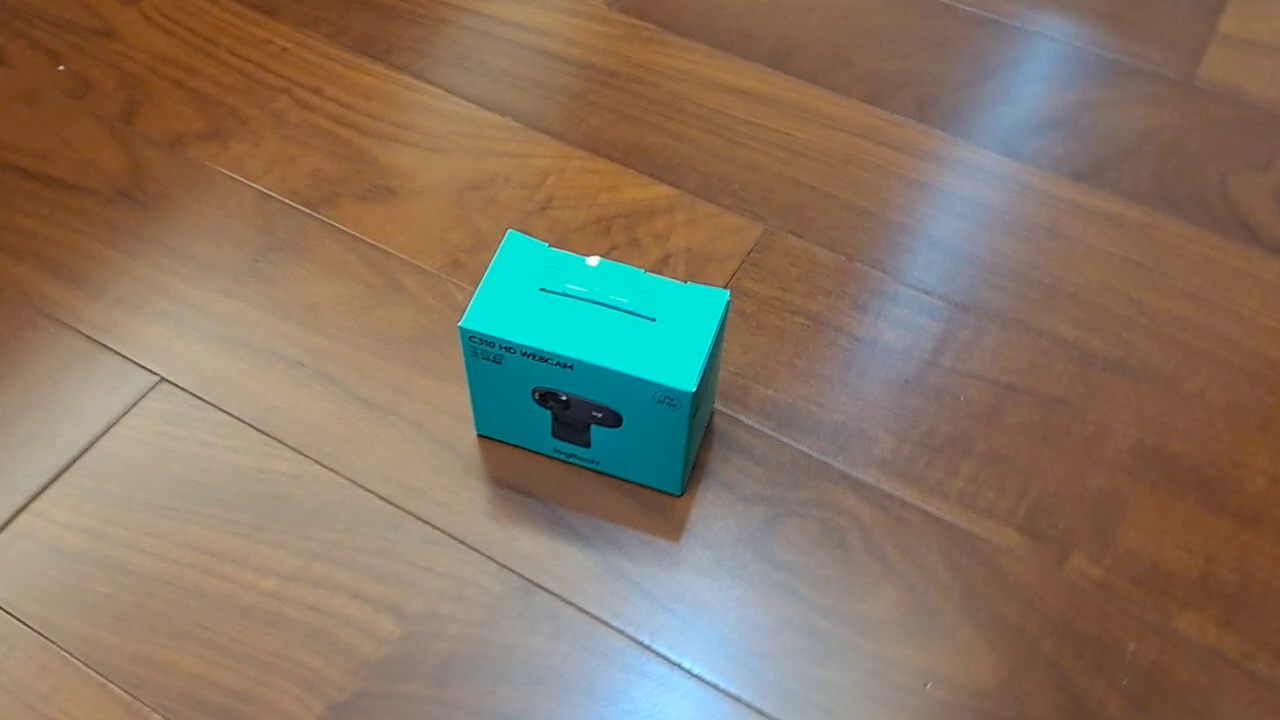webcam: (456, 227, 732, 498)
